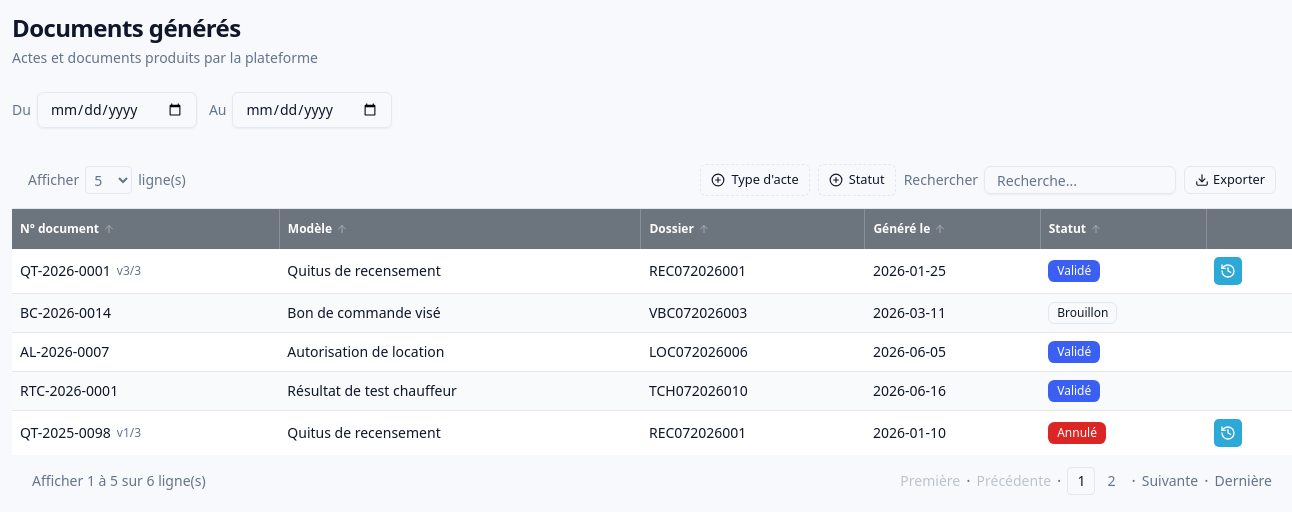
Test: DocumentsPage — recherche et filtres › restreint les lignes à la plage de dates sélectionnée
Expected: the text "QT-2026-0001" is shown, [20,261,111,281]
Type "2026-02-01" into the date field with test id "documents-date-from-input". click: [117, 110]
box: [37,92,197,128]
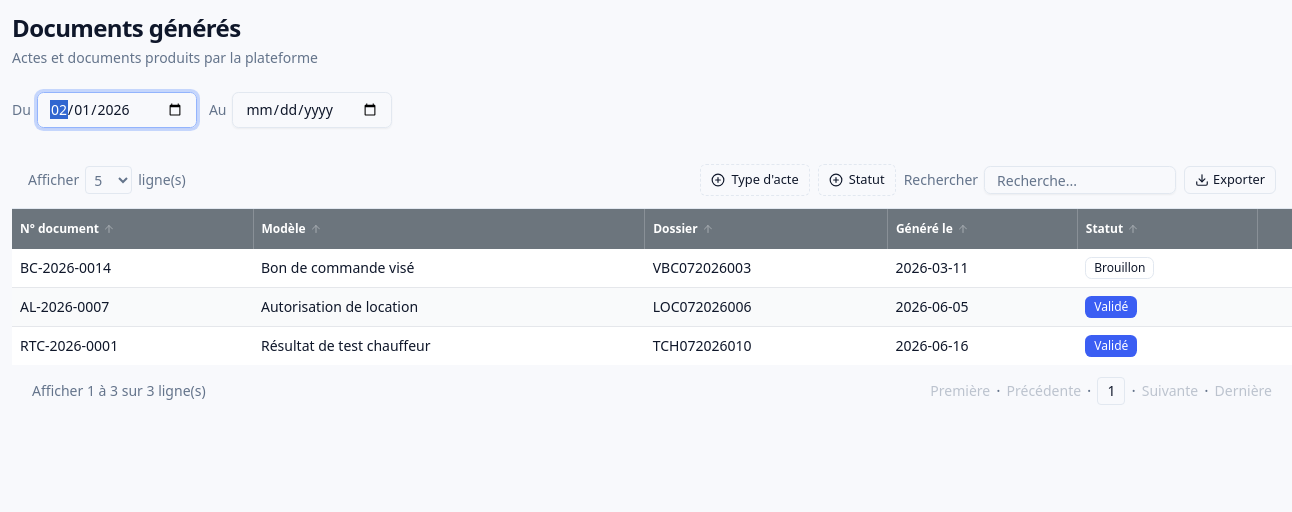
Type "2026-06-10" into the date field with test id "documents-date-to-input". click: [312, 110]
box: [232,92,392,128]
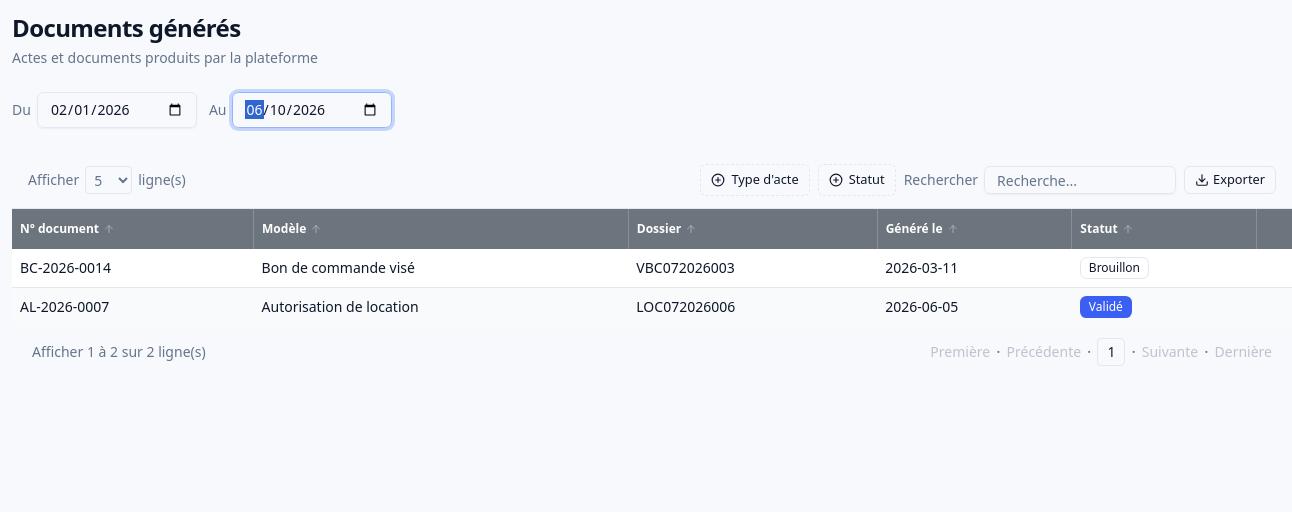
Expected: the text "QT-2026-0001" is not shown
Expected: the text "RTC-2026-0001" is gone
